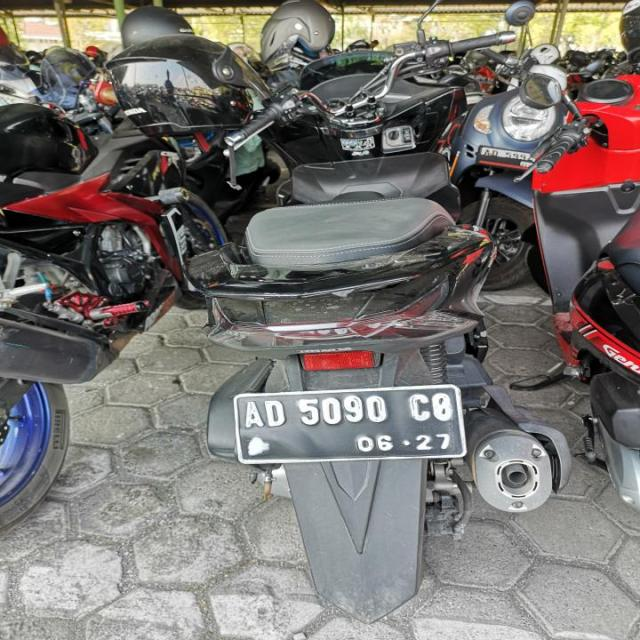License Plate: (232, 385, 468, 461)
